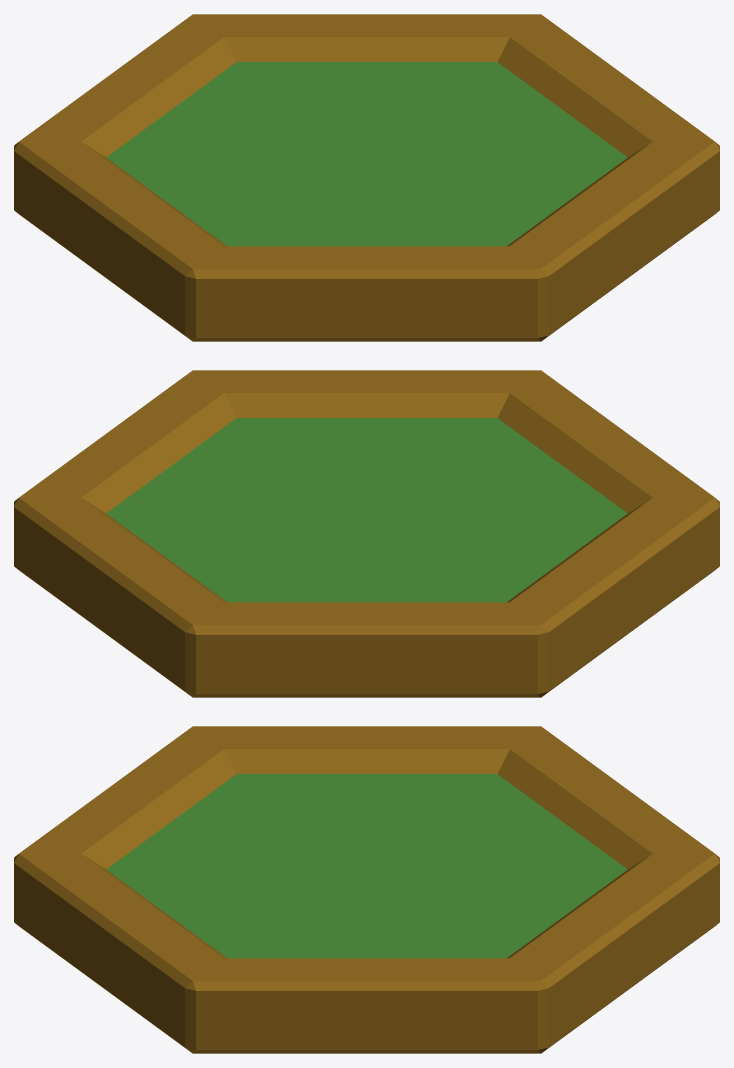
Rendered from Tile_01.fbx.
3 renders of one model, top to bottom at view 1: azimuth 30°, elevation 25°; view 2: azimuth 150°, elevation 25°; view 3: azimuth 270°, elevation 25°, orthographic.
Visible parts, largest first — view 1: Cylinder; view 2: Cylinder; view 3: Cylinder.
Boxes of the visible parts, left/top/right/bottom form: Cylinder: left=14, top=14, right=719, bottom=341; Cylinder: left=14, top=370, right=719, bottom=697; Cylinder: left=14, top=726, right=719, bottom=1053.
Bounding box in the file's own units: 329 × 42.72 × 376.
